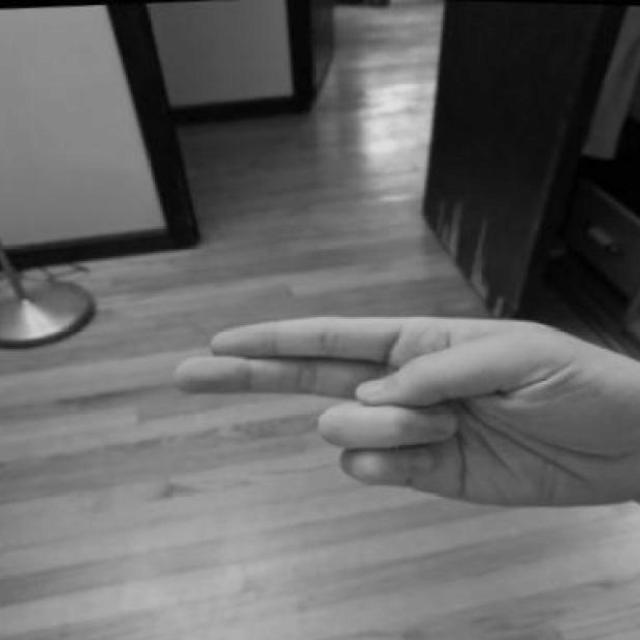H: (161, 282, 637, 526)
